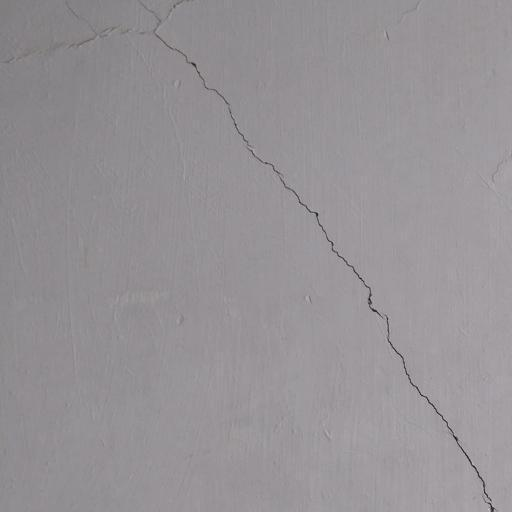major_crack: (62, 0, 503, 512)
